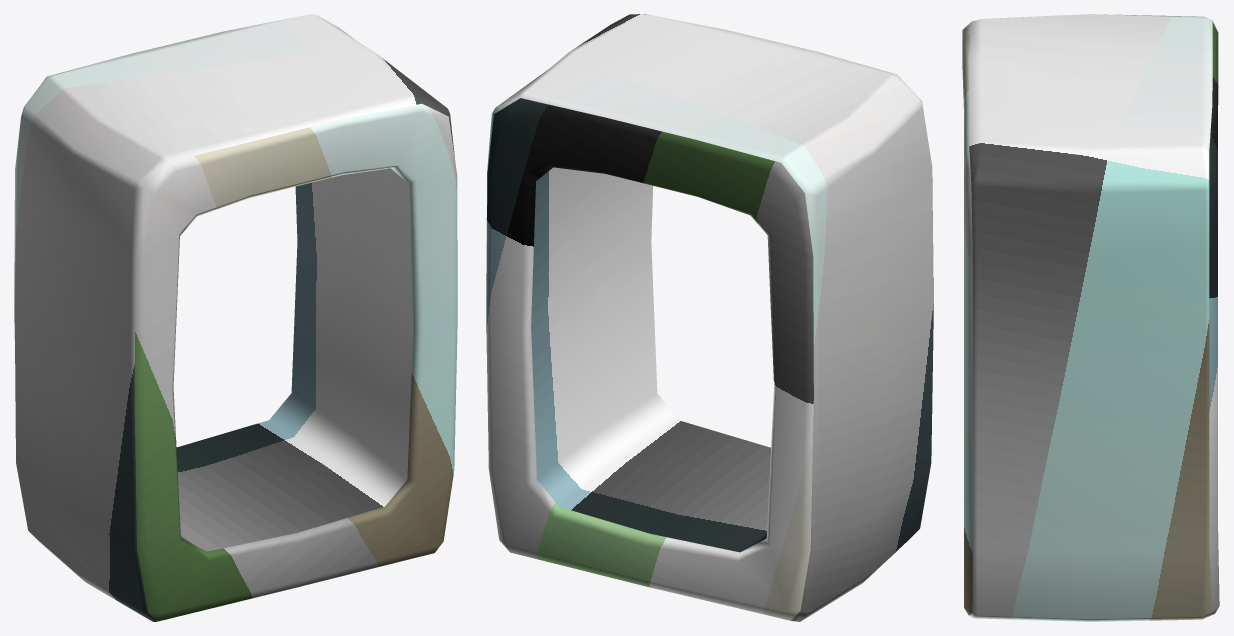
The model's file is P_StoneCubeTall.glb.
The picture shows the model from 3 angles, left to right: view 1: azimuth 30°, elevation 25°; view 2: azimuth 150°, elevation 25°; view 3: azimuth 270°, elevation 25°; orthographic projection.
Parts seen in each view (by area): view 1: P_StoneCubeTall; view 2: P_StoneCubeTall; view 3: P_StoneCubeTall.
Part boxes in pixels (x1,y1,x2,y2): P_StoneCubeTall: (14, 14, 457, 621); P_StoneCubeTall: (486, 14, 933, 621); P_StoneCubeTall: (962, 14, 1219, 621).
Size of the model in its own units: 0.7812 by 1 by 0.5003.
1 material, 1 textured.
